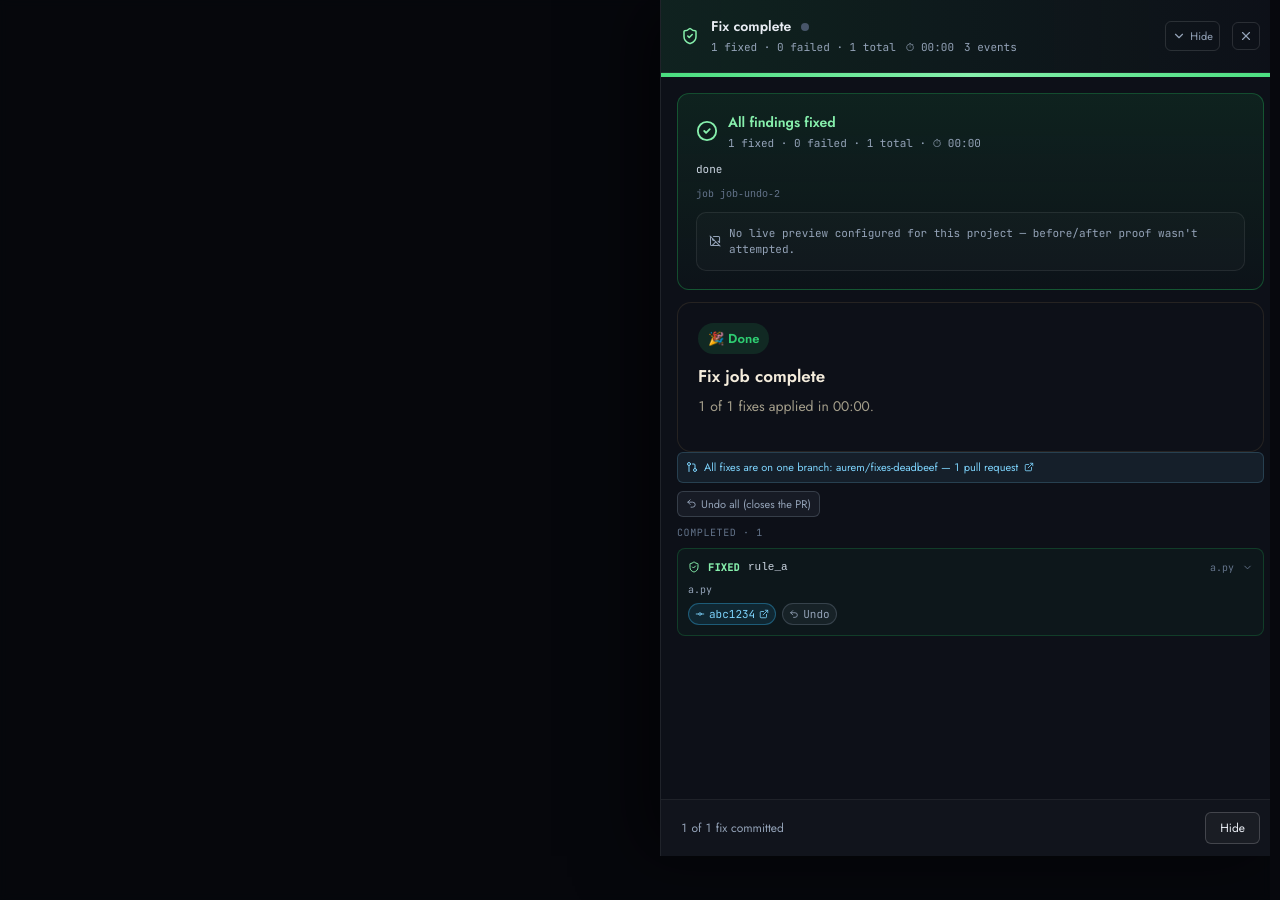
Test: FixProgressDrawer — Part 2b R6 undo/revert › undoes the WHOLE batch via confirm -> api.post with confirm:true -> reverted banner
The image size is (1280, 900).
Click the button with test id "fix-batch-undo-all": [748, 504] box [677,491,820,517]
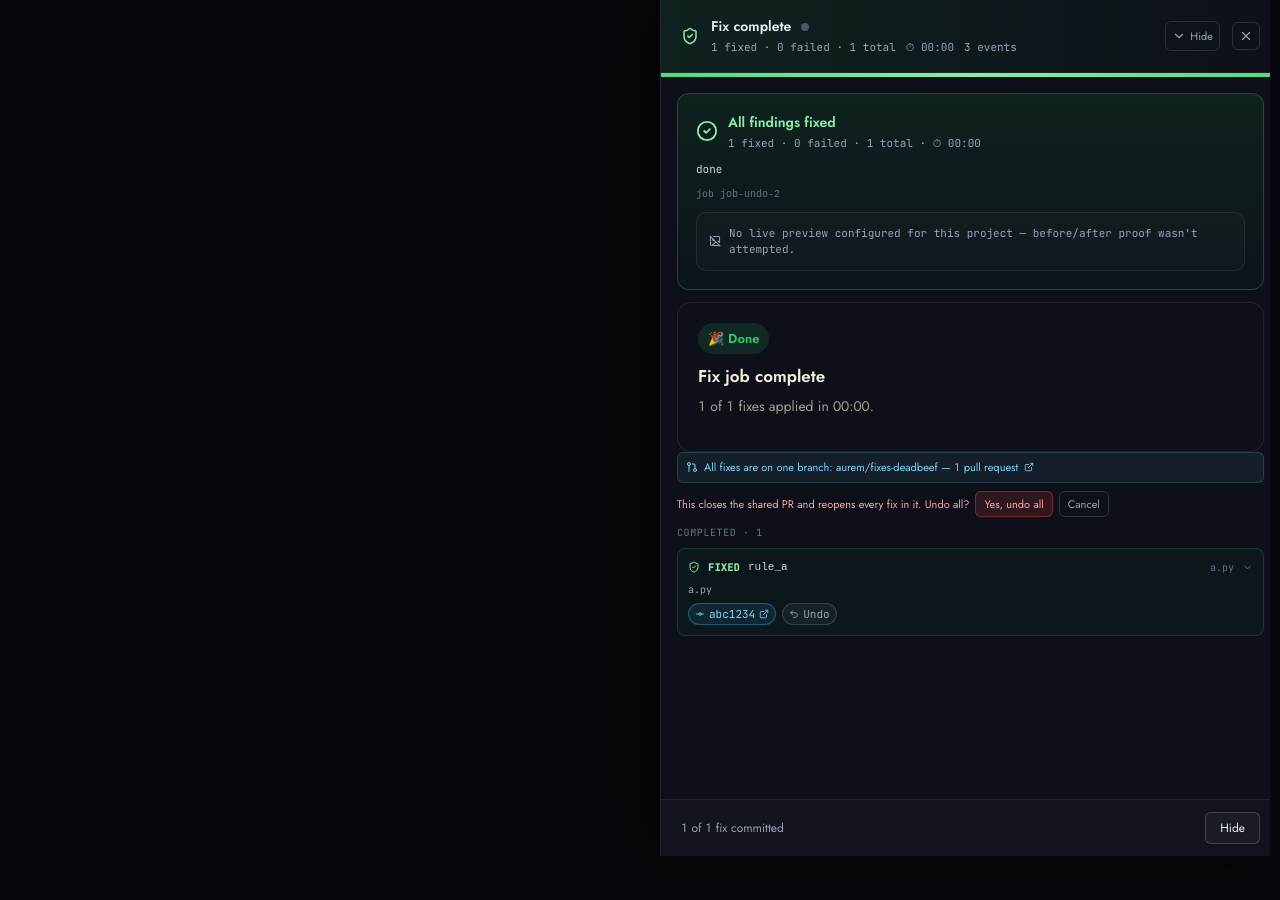
Now the button with test id "fix-batch-undo-all-confirm" is shown
Click the button with test id "fix-batch-undo-all-confirm": [1014, 504] box [975,491,1053,517]
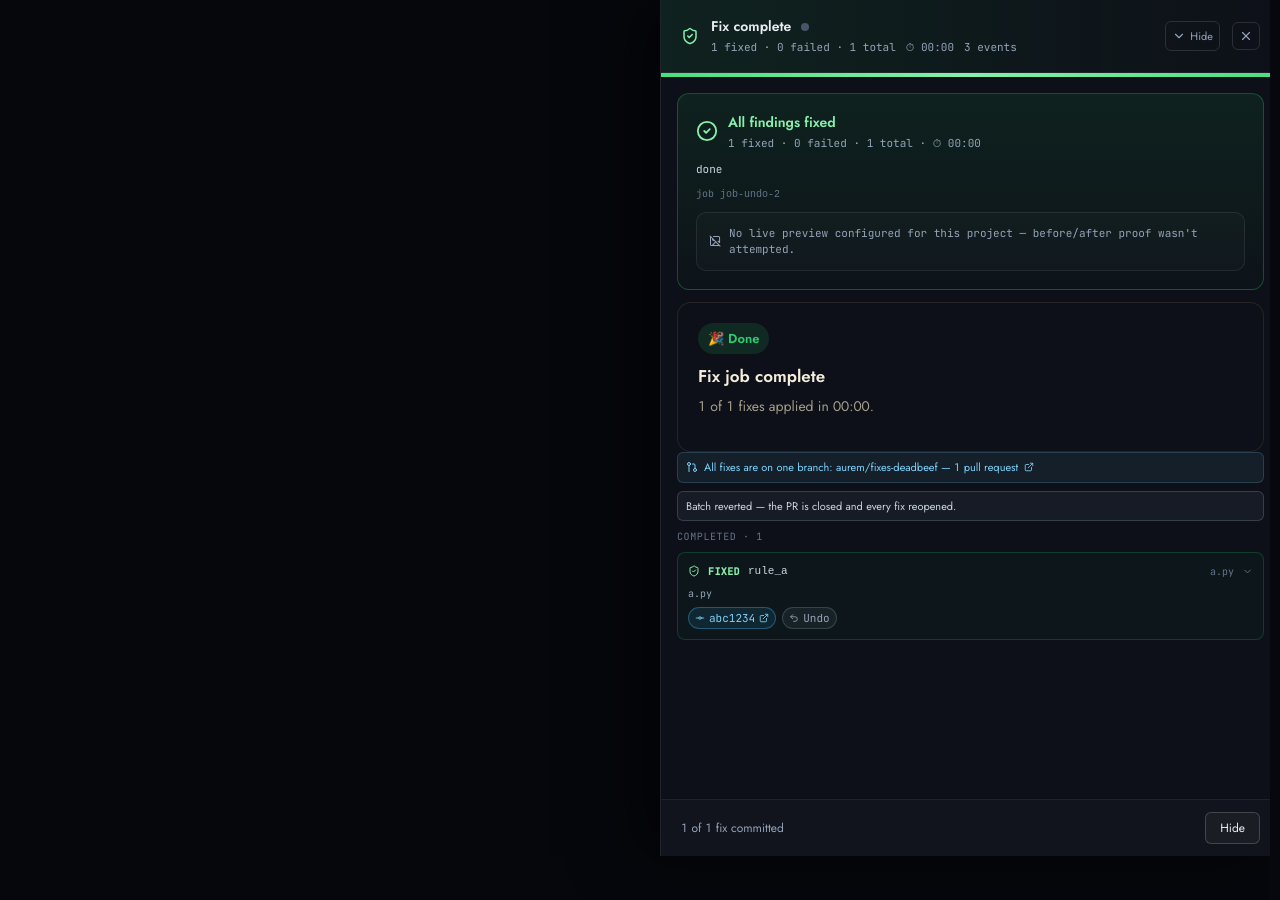
Now the text "Batch reverted — the PR is closed and every fix reopened." is shown, box [677,491,1264,521]
